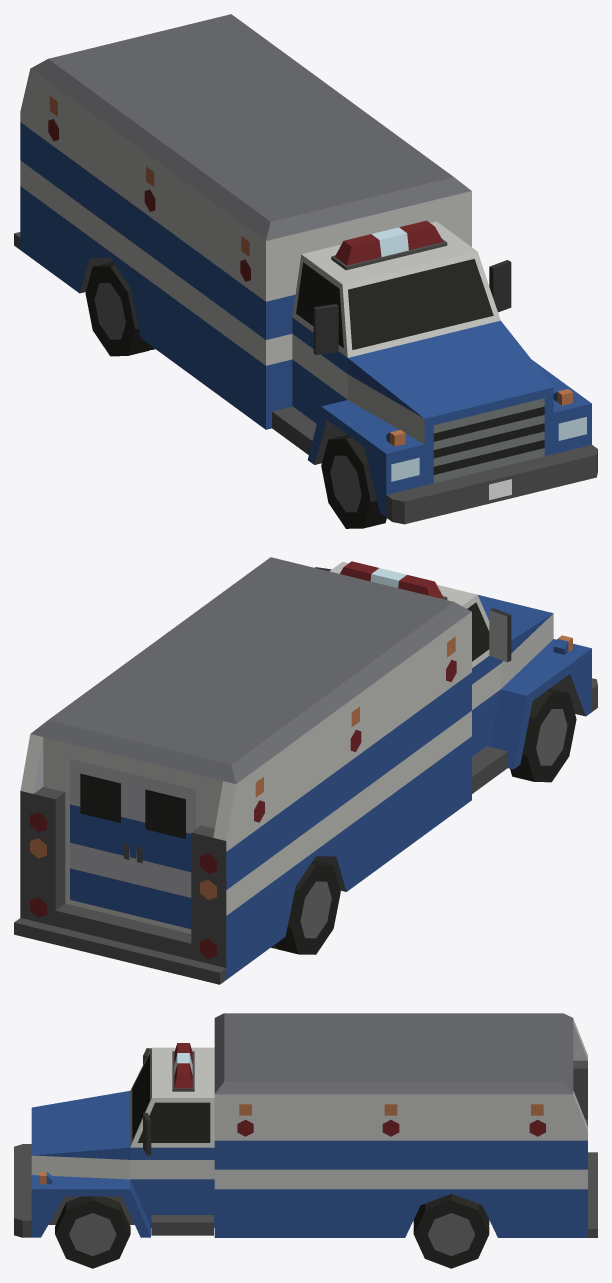
File: Veh_Police_Truck.glb
3 views of the same model, one above another, from view 1: azimuth 30°, elevation 25°; view 2: azimuth 150°, elevation 25°; view 3: azimuth 270°, elevation 25° (orthographic). The views are drawn at different scales.
Visible parts, largest first — view 1: Police_Truck, Wheel_FR, Wheel_RR; view 2: Police_Truck, Wheel_FR, Wheel_RR; view 3: Police_Truck, Wheel_RL, Wheel_FL.
Boxes of the visible parts, x1,y1,x2,y2 form: Police_Truck: (14, 14, 597, 524); Wheel_FR: (321, 434, 386, 528); Wheel_RR: (85, 262, 155, 356); Police_Truck: (14, 557, 597, 984); Wheel_FR: (510, 688, 576, 782); Wheel_RR: (271, 860, 340, 954); Police_Truck: (14, 1013, 597, 1237); Wheel_RL: (413, 1193, 489, 1268); Wheel_FL: (55, 1196, 130, 1268).
Size of the model in its own units: 1.3 by 1.45 by 4.18.
1 material, 1 textured.
